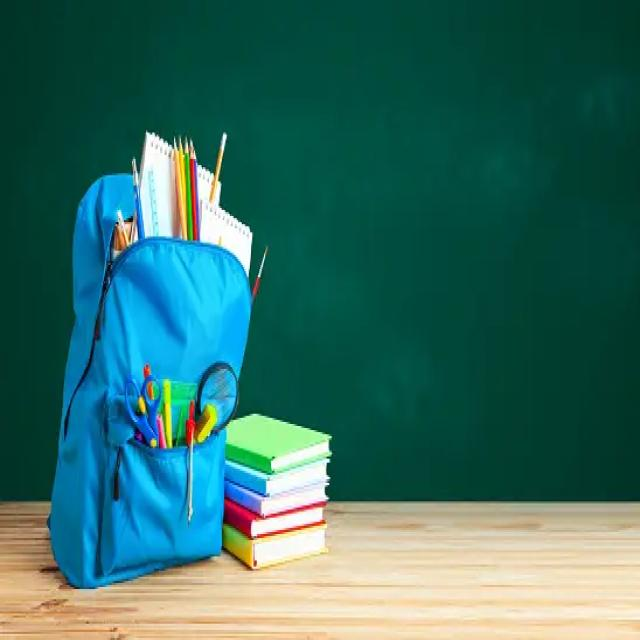backpack: (48, 170, 256, 588)
